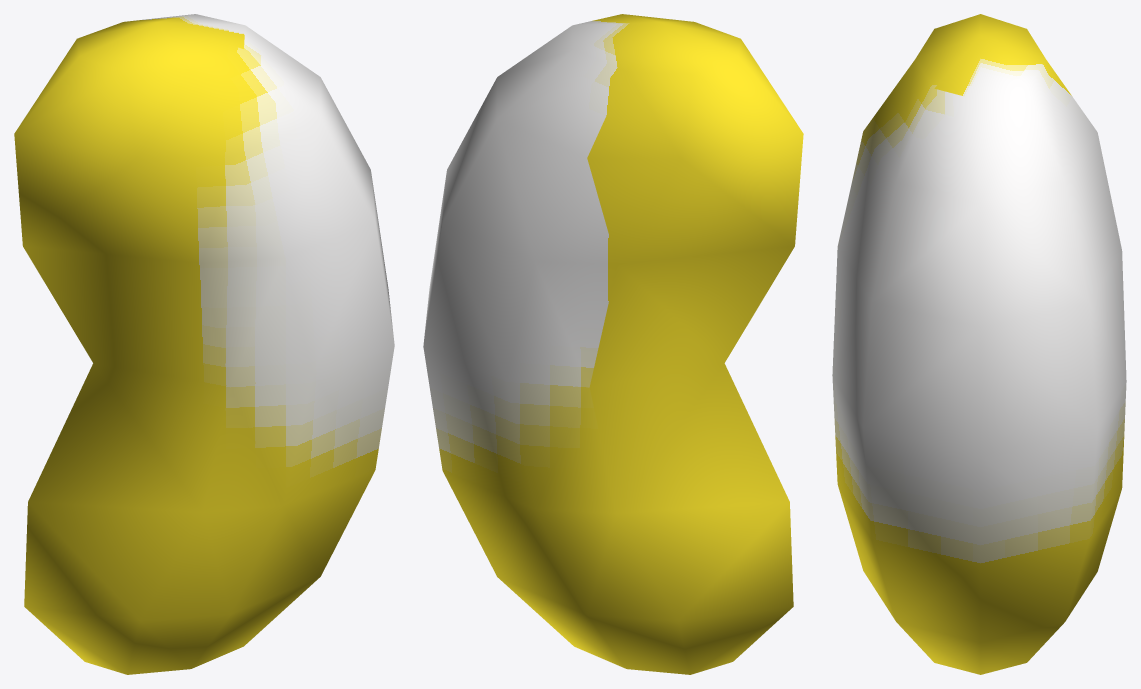
The model's file is bean1.obj.
3 views of the same model, side by side, from view 1: azimuth 30°, elevation 25°; view 2: azimuth 150°, elevation 25°; view 3: azimuth 270°, elevation 25° (orthographic). The views are drawn at different scales.
Parts seen in each view (by area): view 1: bean:Mesh; view 2: bean:Mesh; view 3: bean:Mesh.
Part boxes in pixels (x1,y1,x2,y2): bean:Mesh: [14, 14, 394, 674]; bean:Mesh: [423, 14, 803, 674]; bean:Mesh: [832, 14, 1126, 674].
Bounding box in the file's own units: 34.34 × 56.68 × 24.31.
